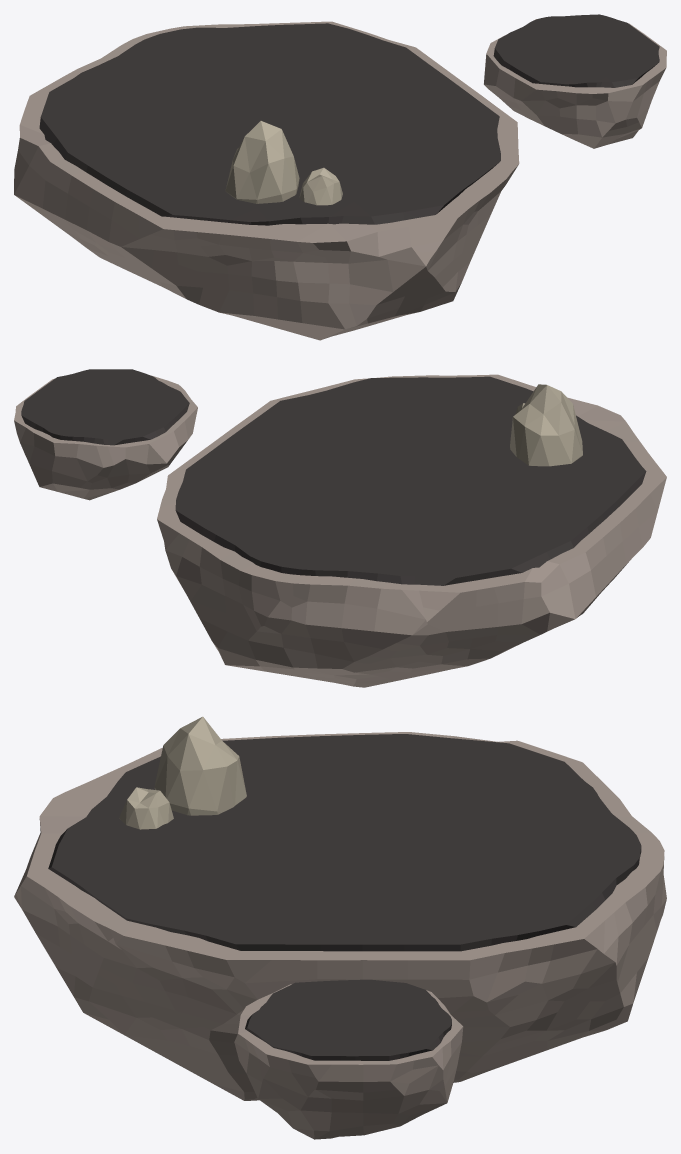
File: Medium_Island_3.fbx
3 renders of one model, top to bottom at view 1: azimuth 30°, elevation 25°; view 2: azimuth 150°, elevation 25°; view 3: azimuth 270°, elevation 25°, orthographic. The views are drawn at different scales.
Parts seen in each view (by area): view 1: Icosphere, Icosphere.003, Icosphere.004, Icosphere.005; view 2: Icosphere, Icosphere.003, Icosphere.004; view 3: Icosphere, Icosphere.003, Icosphere.004, Icosphere.005.
Boxes of the visible parts, <box> form: Icosphere: <box>14,21,519,340</box>; Icosphere.003: <box>484,14,666,148</box>; Icosphere.004: <box>225,121,299,203</box>; Icosphere.005: <box>299,167,342,205</box>; Icosphere: <box>157,374,666,687</box>; Icosphere.003: <box>14,369,197,500</box>; Icosphere.004: <box>510,384,582,466</box>; Icosphere: <box>14,732,666,1100</box>; Icosphere.003: <box>234,979,463,1139</box>; Icosphere.004: <box>154,716,246,815</box>; Icosphere.005: <box>119,787,173,829</box>.
Bounding box in the file's own units: 22.37 × 8.71 × 18.01.
